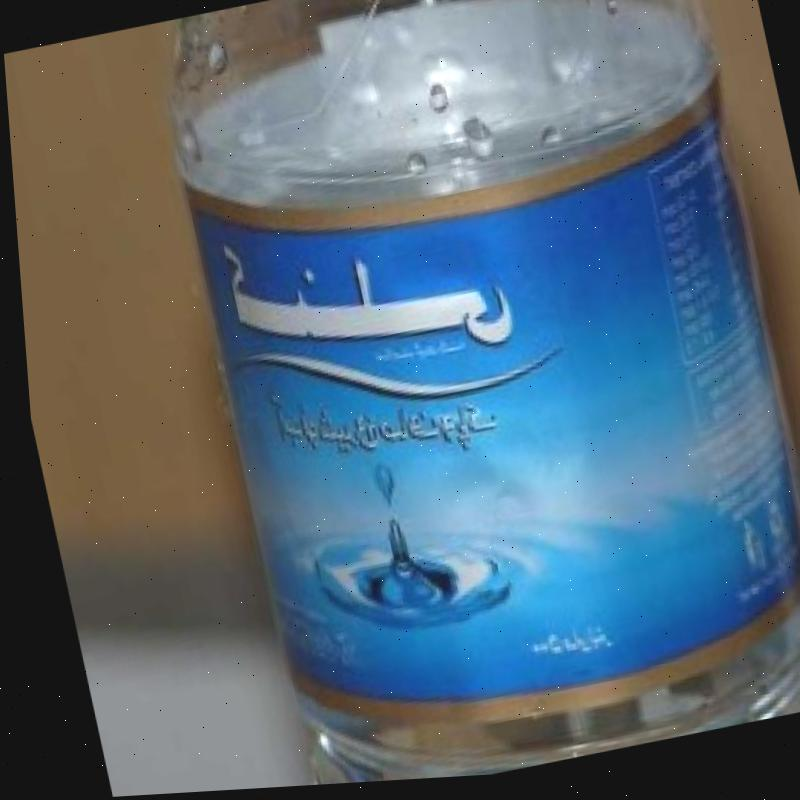botella: (140, 0, 800, 793)
